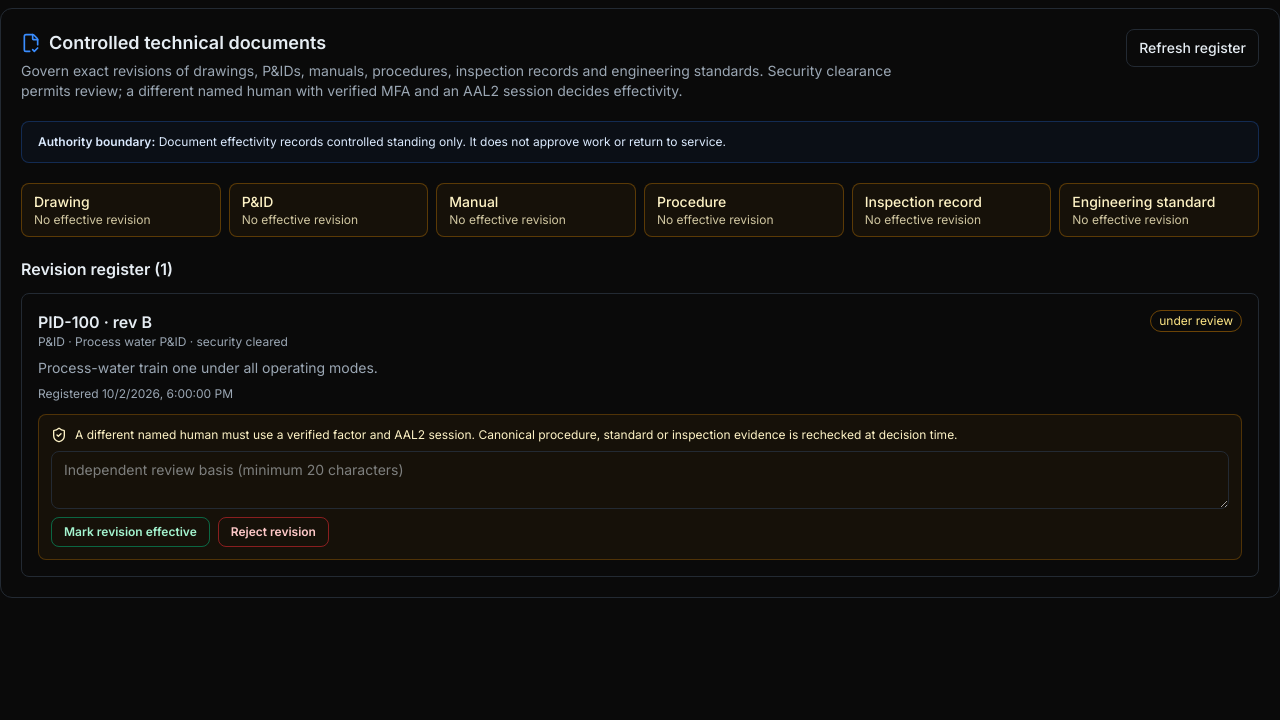
ControlledTechnicalDocuments › requires and records an independent AAL2 review basis
Expected: the text "PID-100 · rev B" is shown, [38,312,152,332]
Type "Verified against the approved redline and field walkdown." into the text box with placeholder "Independent review basis (minimum 20 characters)".
click(640, 480); type("Verified against the approved redline and field walkdown.")  # box [51,451,1229,509]
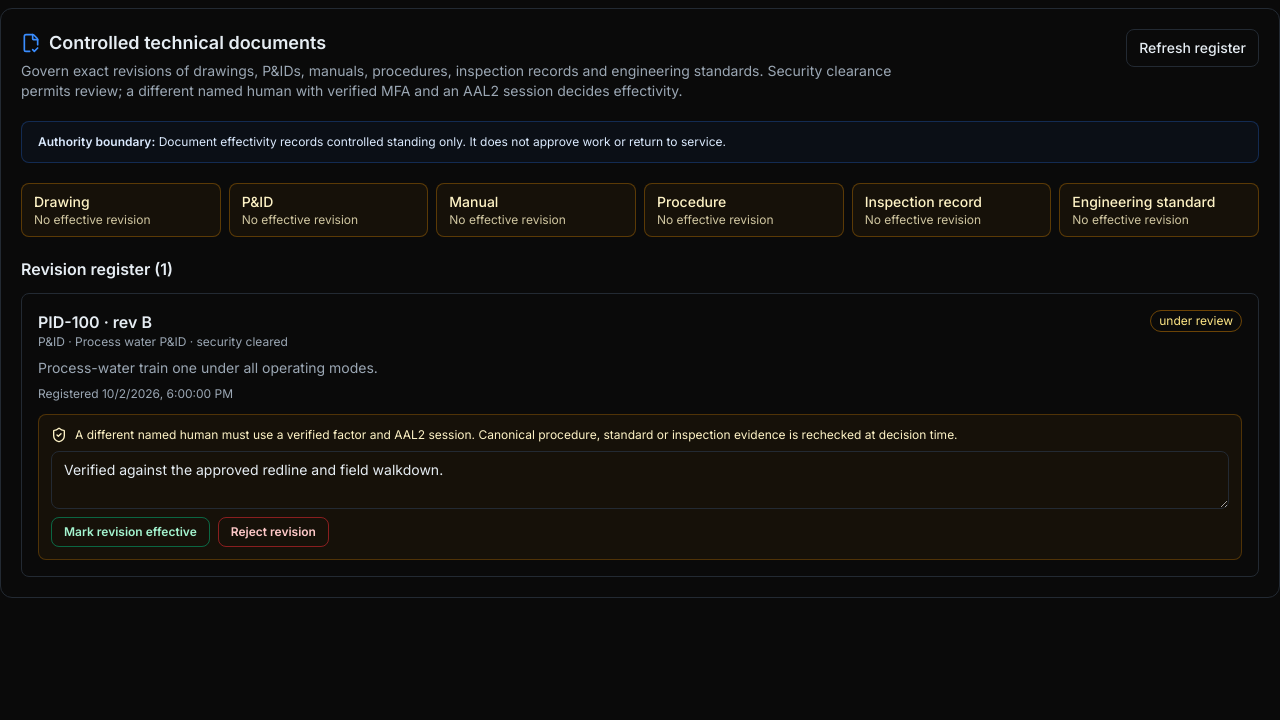
Click the button "Mark revision effective".
click(130, 532)  # box [51,517,210,547]
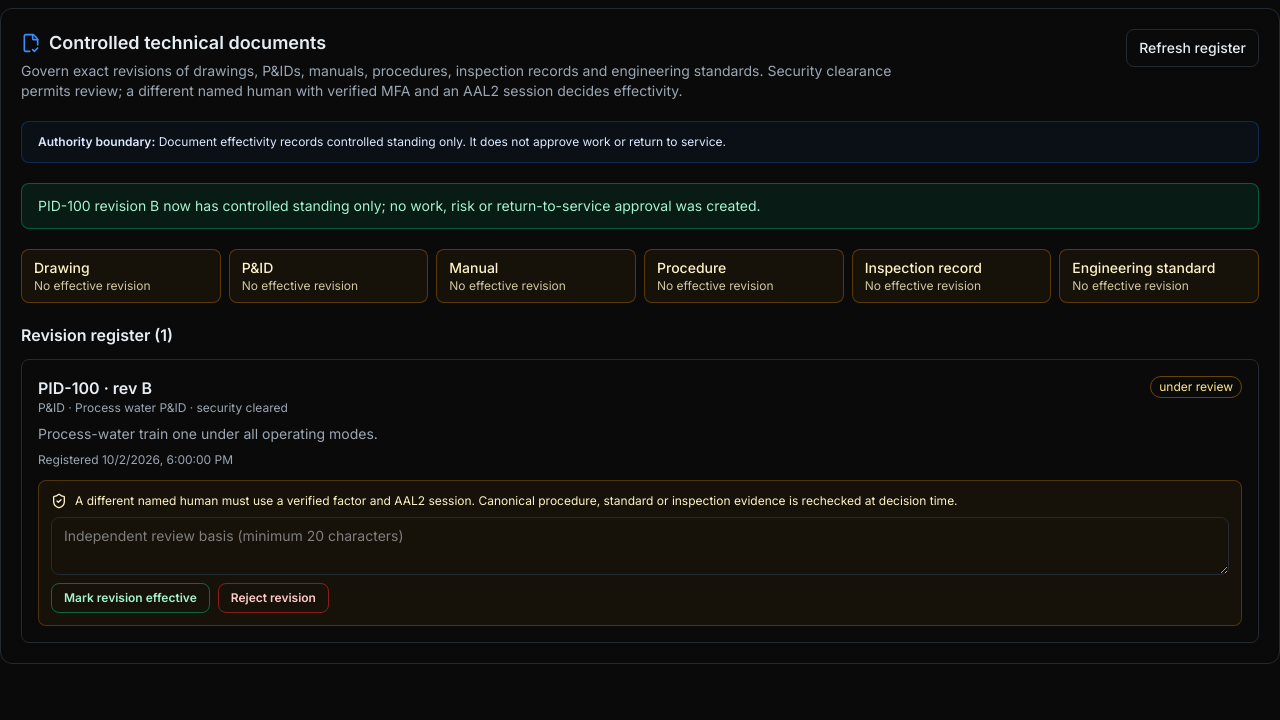
Expected: the message is shown, [21,183,1259,229]
Expected: the message shows "no work, risk or return-to-service approval", [38,197,761,214]
